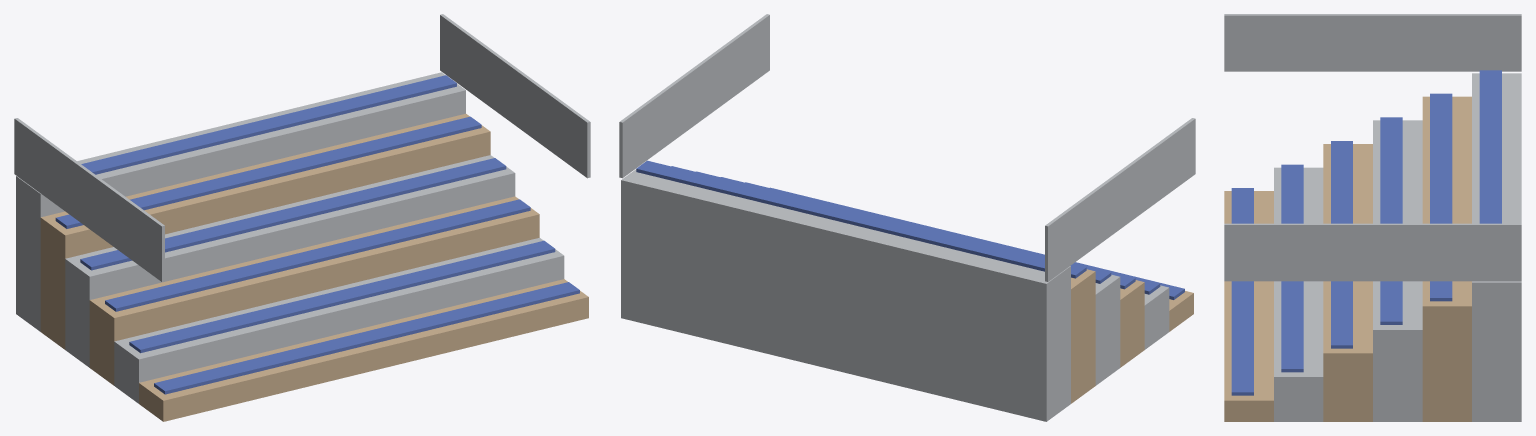
Rendered from bleachers.glb.
3 renders of one model, left to right at view 1: azimuth 30°, elevation 25°; view 2: azimuth 150°, elevation 25°; view 3: azimuth 270°, elevation 25°, orthographic.
Visible parts, largest first — view 1: riser2, riser3, riser5, riser1, riser4, riser0, rail-1, rail1, seat1, seat2, seat0, seat3 (+2 smaller); view 2: riser5, rail1, rail-1, seat5, riser4, riser3, riser2, riser1, riser0, seat1, seat3, seat2 (+2 smaller); view 3: rail1, rail-1, riser5, riser4, riser3, riser2, riser1, riser0, seat5, seat1, seat4, seat0 (+2 smaller).
Boxes of the visible parts, x1=… form: riser2: x1=89, y1=196, x2=539, y2=385; riser3: x1=65, y1=155, x2=515, y2=367; riser5: x1=16, y1=72, x2=465, y2=331; riser1: x1=114, y1=237, x2=564, y2=403; riser4: x1=40, y1=113, x2=490, y2=349; riser0: x1=139, y1=279, x2=588, y2=421; rail-1: x1=14, y1=118, x2=164, y2=281; rail1: x1=440, y1=14, x2=590, y2=178; seat1: x1=129, y1=240, x2=555, y2=353; seat2: x1=105, y1=199, x2=530, y2=311; seat0: x1=154, y1=282, x2=579, y2=394; seat3: x1=80, y1=158, x2=506, y2=270; riser5: x1=621, y1=169, x2=1070, y2=421; rail1: x1=619, y1=14, x2=769, y2=178; rail-1: x1=1045, y1=118, x2=1195, y2=281; seat5: x1=636, y1=160, x2=1044, y2=271; riser4: x1=1071, y1=269, x2=1095, y2=403; riser3: x1=1095, y1=274, x2=1120, y2=385; riser2: x1=1120, y1=280, x2=1144, y2=367; riser1: x1=1144, y1=285, x2=1169, y2=349; riser0: x1=1169, y1=291, x2=1193, y2=331; seat1: x1=745, y1=182, x2=1160, y2=294; seat3: x1=696, y1=171, x2=1111, y2=283; seat2: x1=720, y1=177, x2=1135, y2=289; rail1: x1=1224, y1=223, x2=1521, y2=281; rail-1: x1=1224, y1=14, x2=1521, y2=71; riser5: x1=1472, y1=73, x2=1521, y2=421; riser4: x1=1422, y1=96, x2=1471, y2=421; riser3: x1=1373, y1=120, x2=1422, y2=421; riser2: x1=1323, y1=144, x2=1372, y2=421; riser1: x1=1274, y1=167, x2=1323, y2=421; riser0: x1=1224, y1=191, x2=1273, y2=421; seat5: x1=1479, y1=70, x2=1501, y2=223; seat1: x1=1281, y1=164, x2=1303, y2=372; seat4: x1=1430, y1=93, x2=1452, y2=301; seat0: x1=1231, y1=188, x2=1253, y2=395.
Size of the model in its own units: 8.06 by 3.52 by 4.8.
